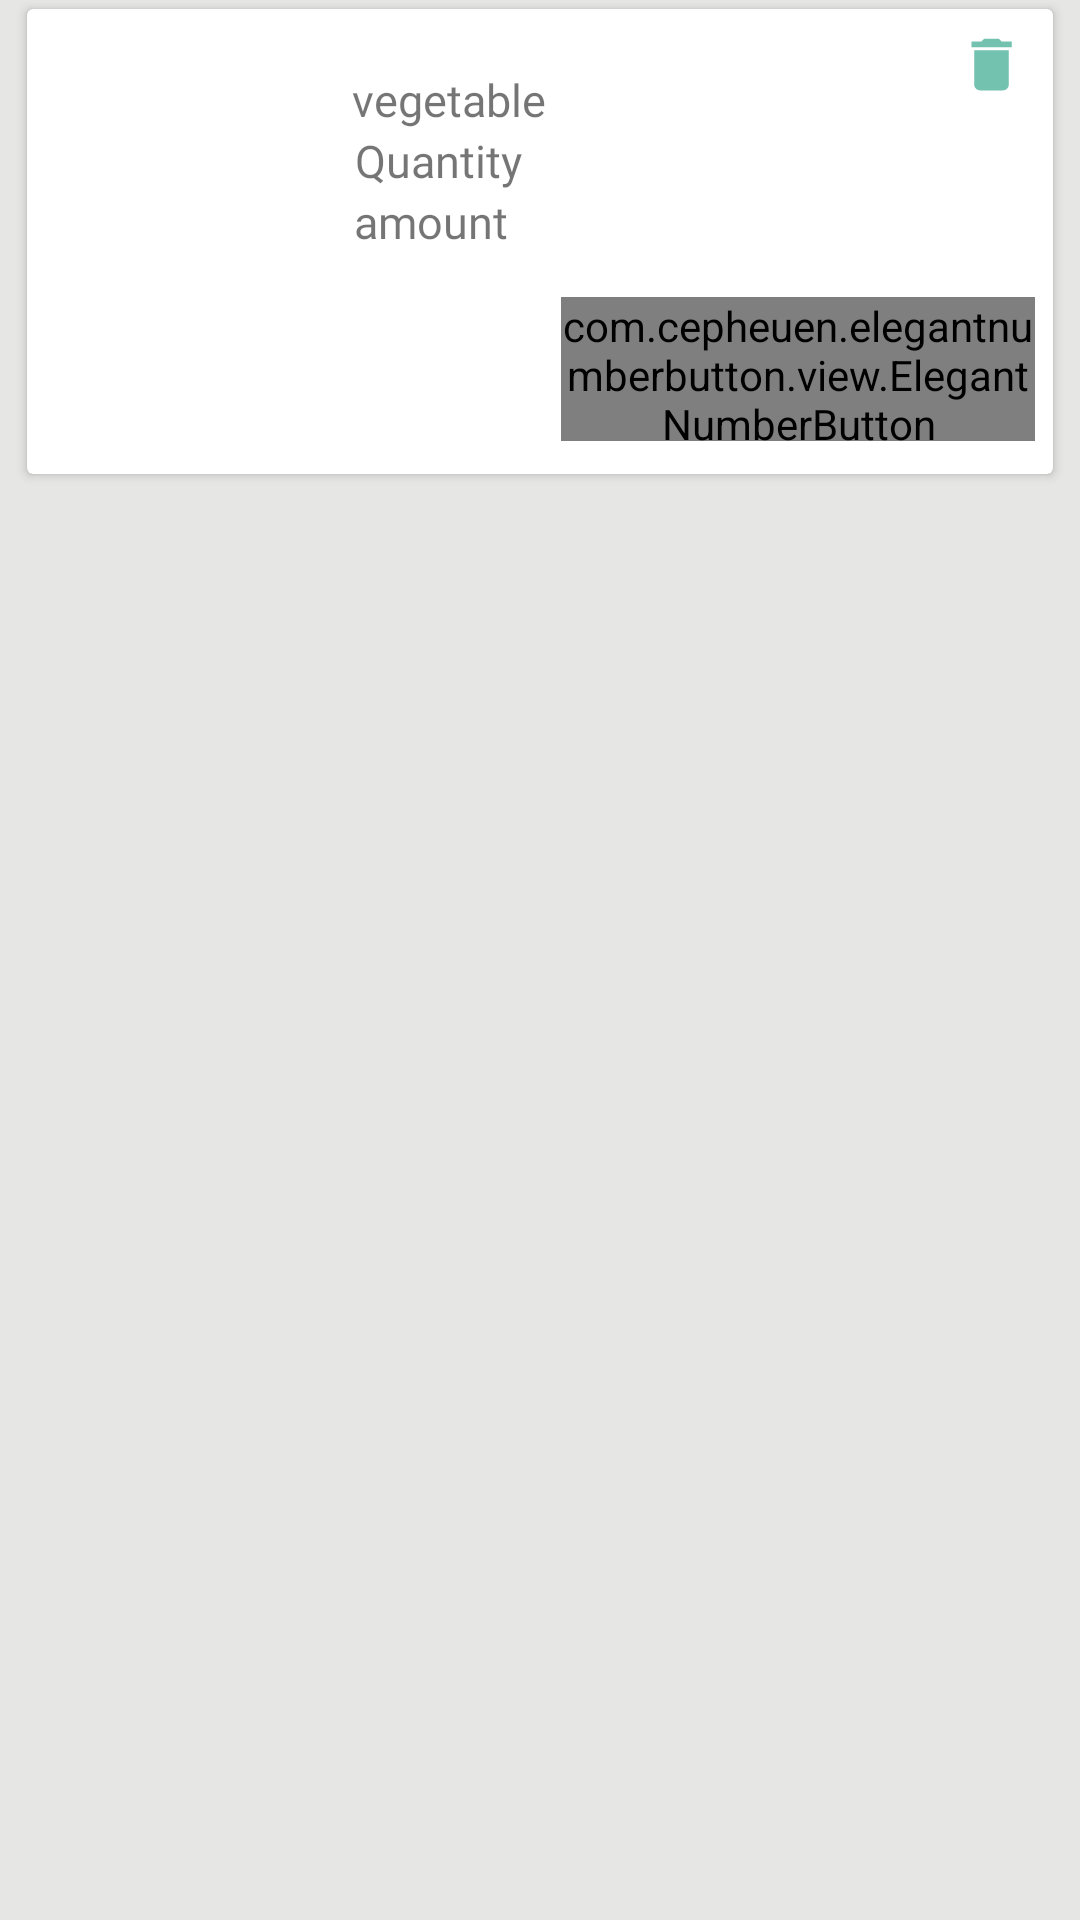

Named icons in this screenshot (1080×1920) and their centers, (x,y):
delete: (991,64)
